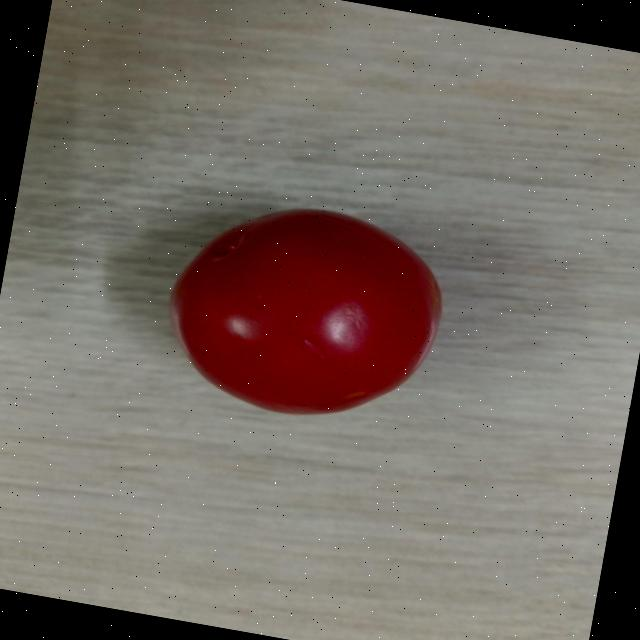Tomato: (152, 181, 461, 440)
